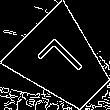L_SE: (34, 34, 92, 92)
